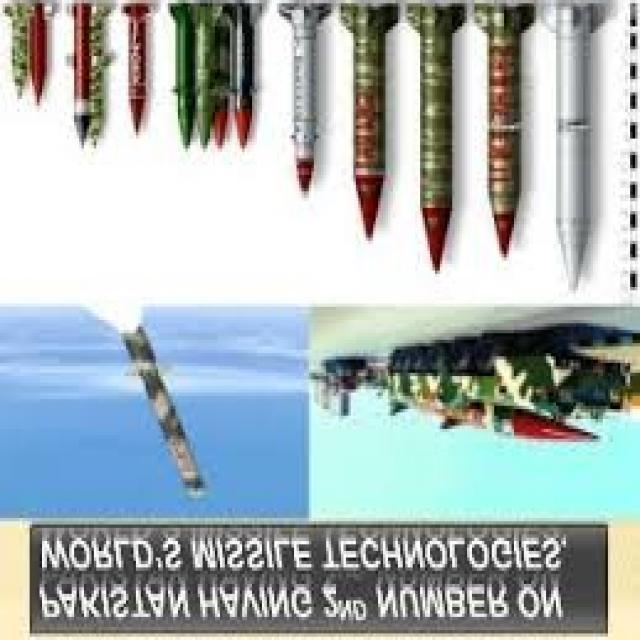missile: (470, 0, 536, 274), (125, 315, 216, 505), (339, 1, 401, 249), (554, 8, 592, 296)
